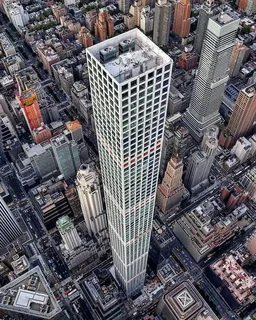high_rise_building: (85, 30, 169, 292)
